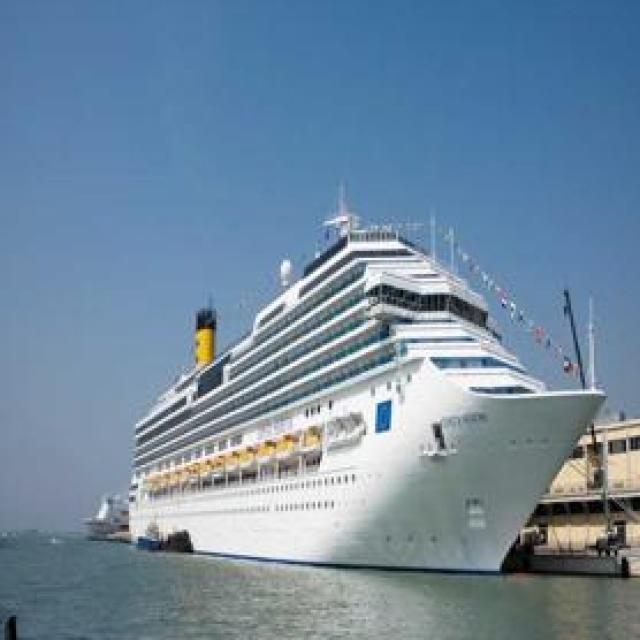passenger ship: (112, 222, 610, 576)
